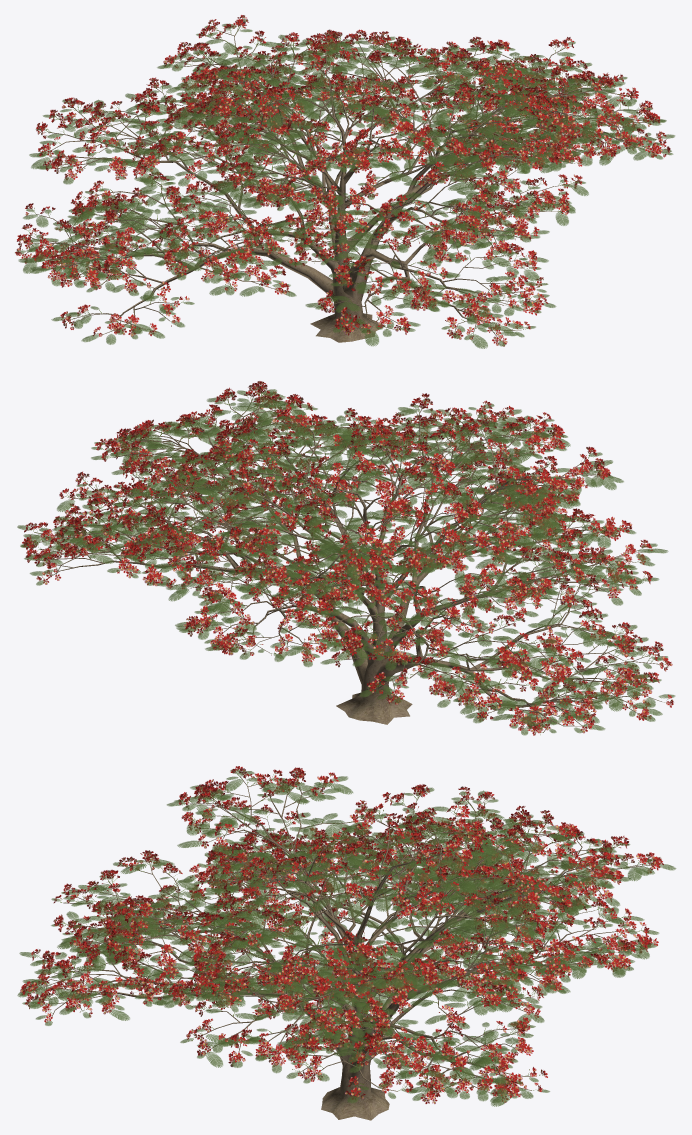
Rendered from poinciana_hd1.glb.
The picture shows the model from 3 angles, top to bottom: view 1: azimuth 30°, elevation 25°; view 2: azimuth 150°, elevation 25°; view 3: azimuth 270°, elevation 25°; orthographic projection. The views are drawn at different scales.
Parts seen in each view (by area): view 1: Delonix_regia_HD_w; view 2: Delonix_regia_HD_w; view 3: Delonix_regia_HD_w.
Boxes of the visible parts, left/top/right/bottom form: Delonix_regia_HD_w: left=15, top=15, right=674, bottom=348; Delonix_regia_HD_w: left=17, top=381, right=675, bottom=735; Delonix_regia_HD_w: left=17, top=766, right=676, bottom=1120.
Bounding box in the file's own units: 15.54 × 6.5 × 14.22.
9 materials, 9 textured.
